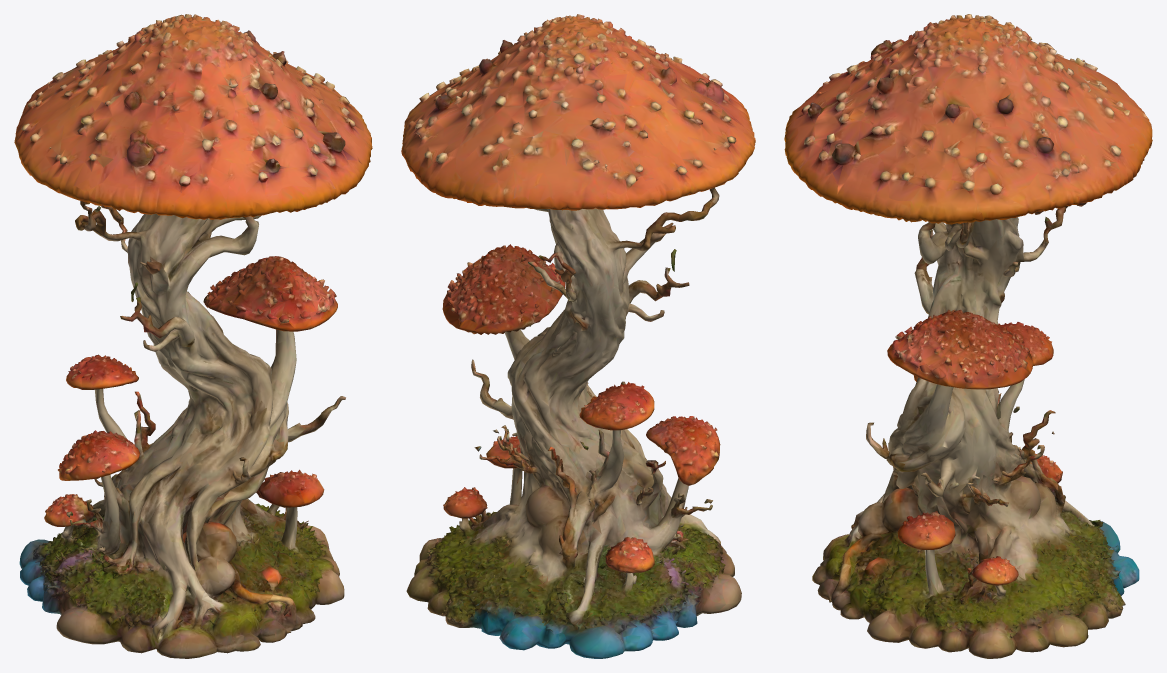
The model's file is High_detail_fantasy_.glb.
3 renders of one model, left to right at view 1: azimuth 30°, elevation 25°; view 2: azimuth 150°, elevation 25°; view 3: azimuth 270°, elevation 25°, orthographic.
Parts seen in each view (by area): view 1: High_detail_fantasy_; view 2: High_detail_fantasy_; view 3: High_detail_fantasy_.
Boxes of the visible parts, left/top/right/bottom form: High_detail_fantasy_: left=14, top=14, right=372, bottom=658; High_detail_fantasy_: left=401, top=14, right=755, bottom=658; High_detail_fantasy_: left=784, top=14, right=1152, bottom=658.
Size of the model in its own units: 1.1 by 1.9 by 1.12.
Materials: 1 (1 with a texture image).
